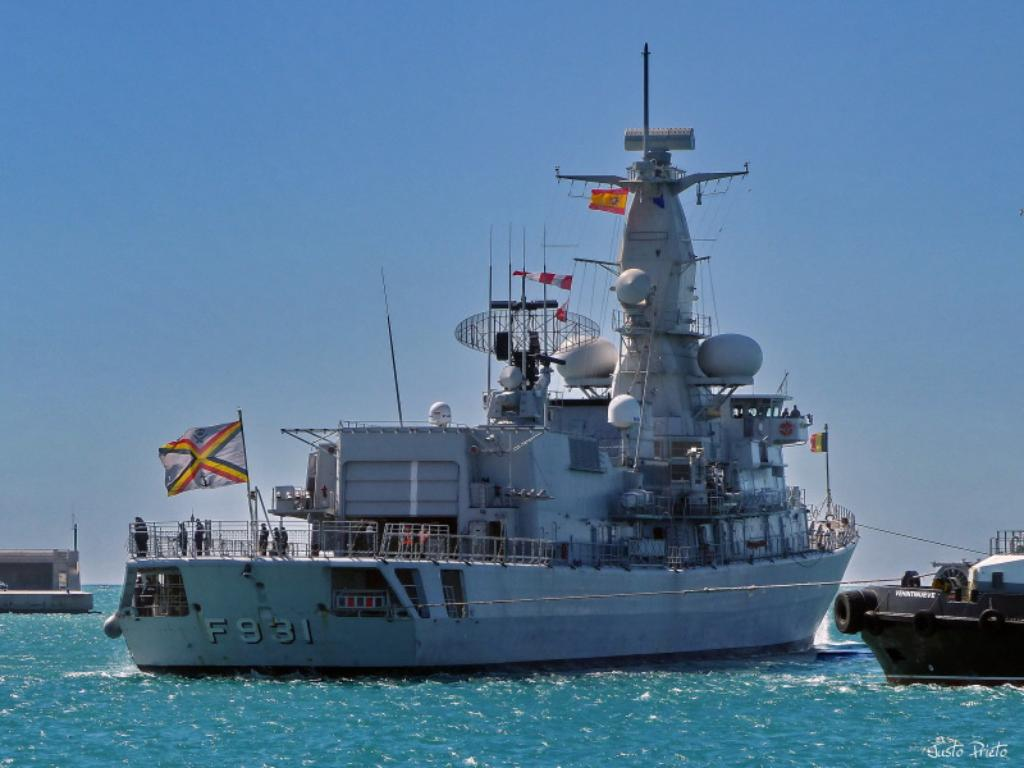Warship: (100, 8, 866, 682)
